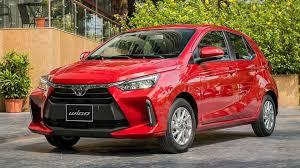toyota: (69, 84, 90, 98)
